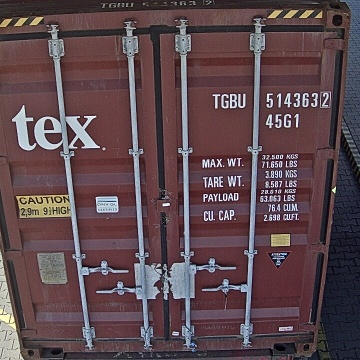serial_id: (211, 92, 331, 107)
